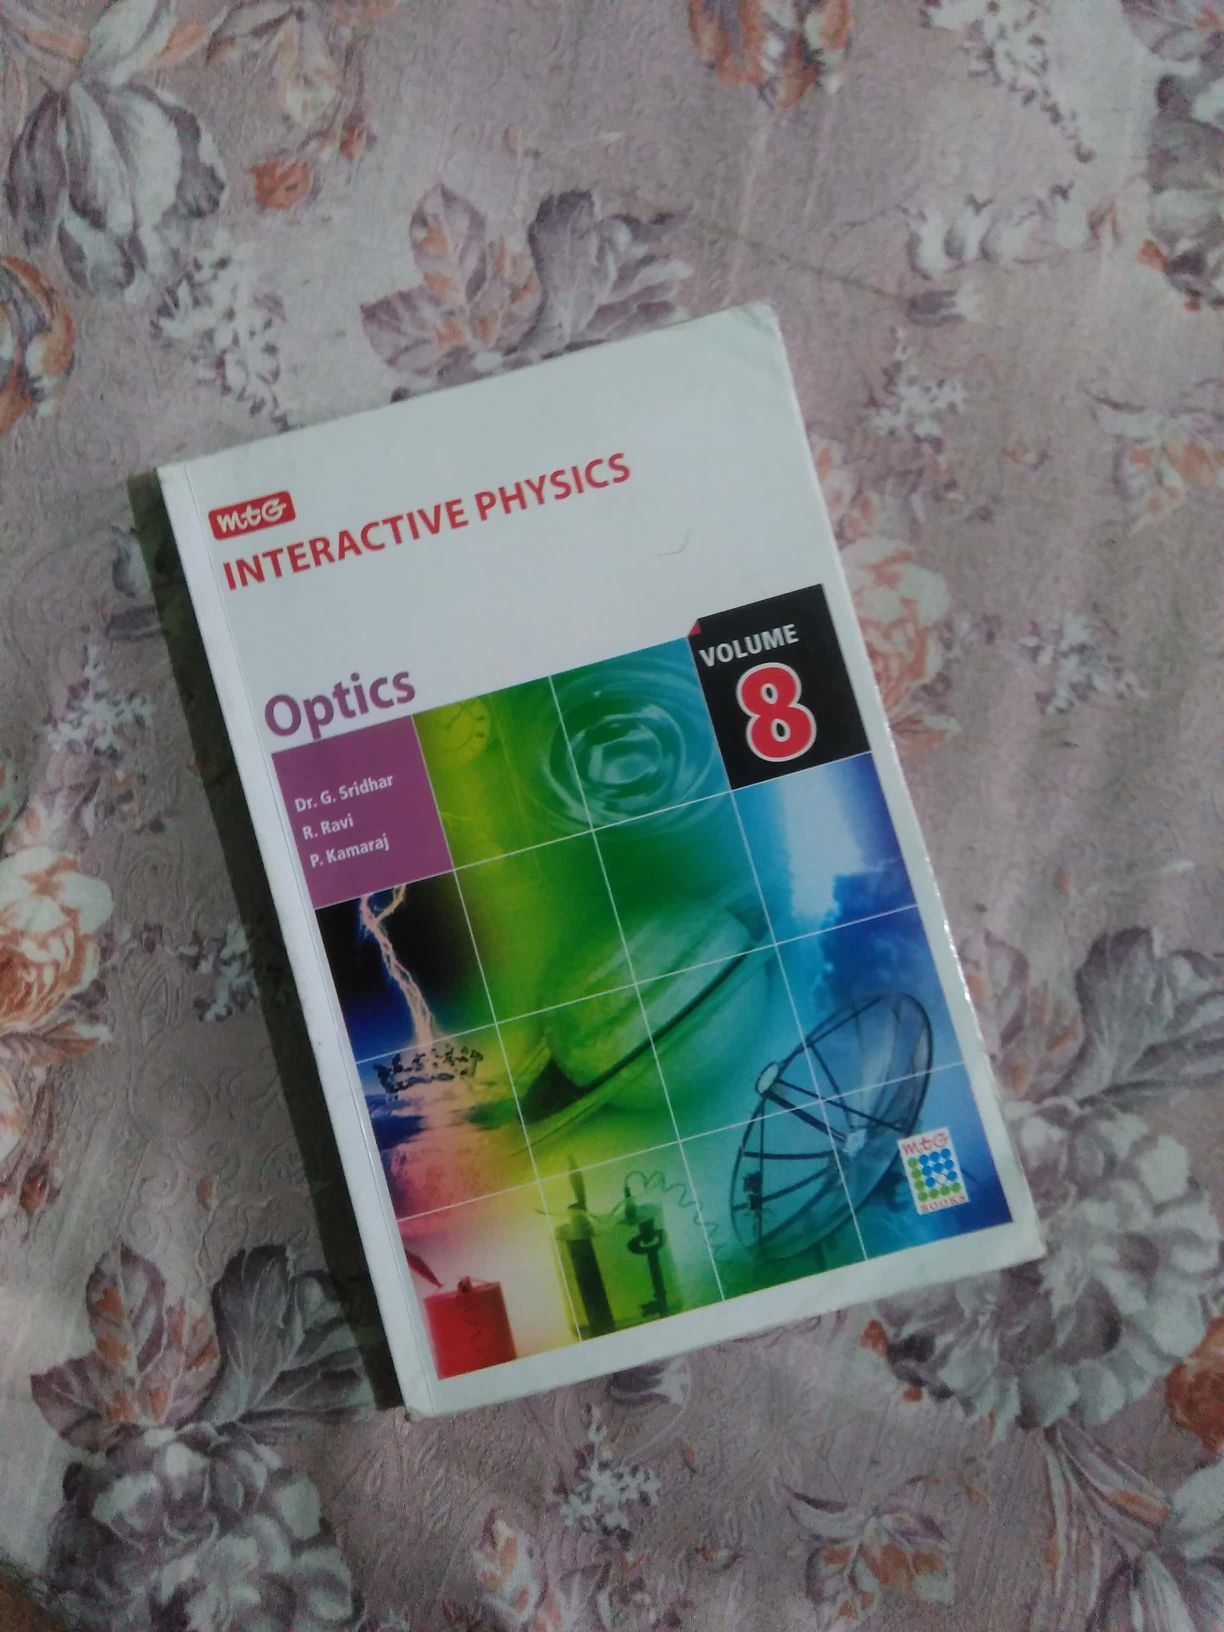optics: (132, 348, 1047, 1371)
